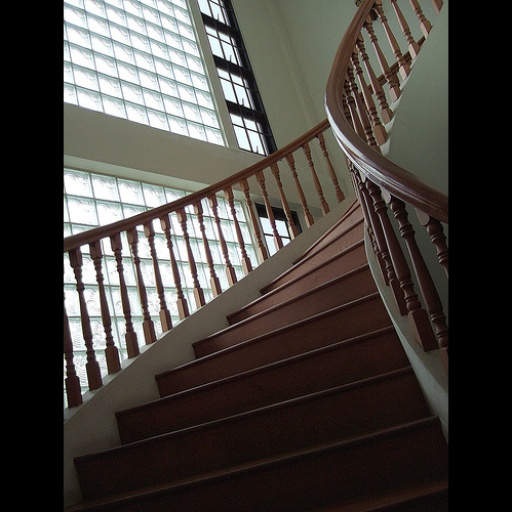Stairs: (70, 204, 446, 512)
